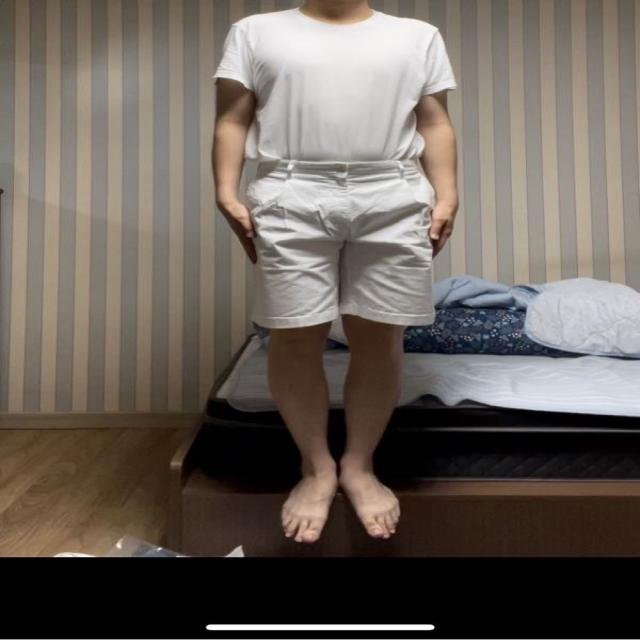shortpants: (245, 162, 438, 327)
shortsleeve: (215, 7, 462, 161)
